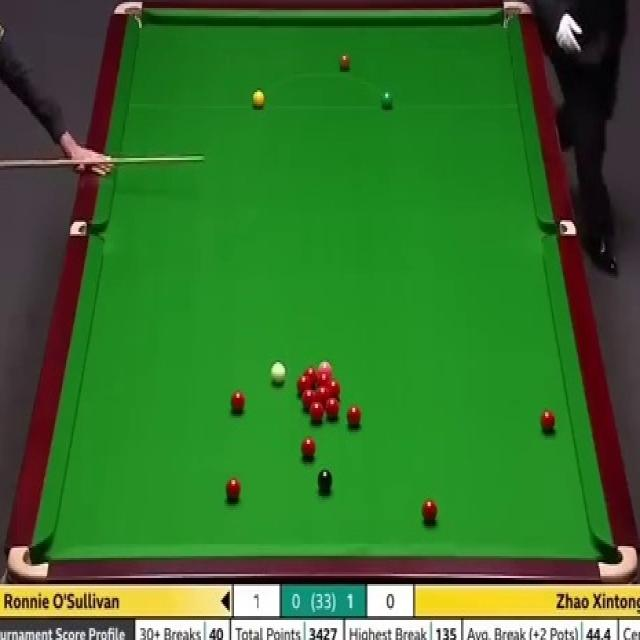pocket: (7, 543, 50, 582), (597, 542, 637, 583), (111, 0, 145, 34), (499, 0, 533, 32), (541, 218, 575, 237), (68, 222, 104, 236)
